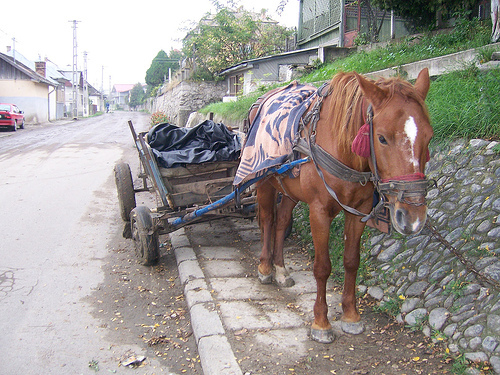horse: (233, 67, 434, 343)
